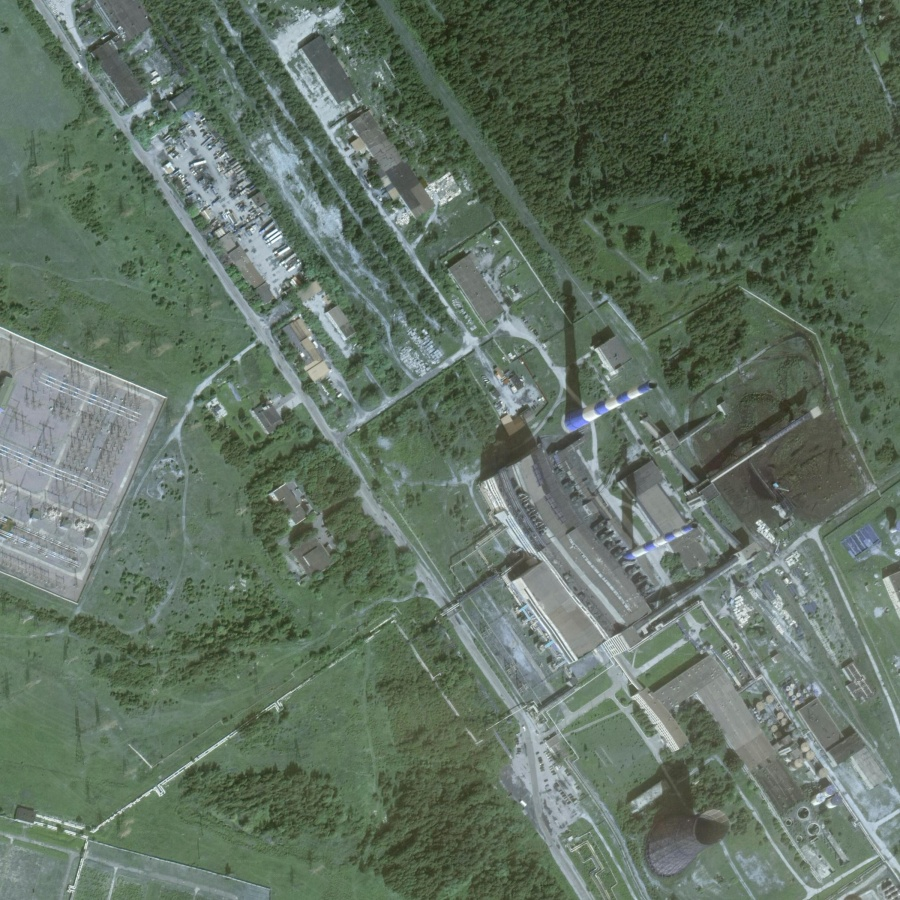PowerPlant: (531, 307, 837, 690), (620, 758, 749, 888)
